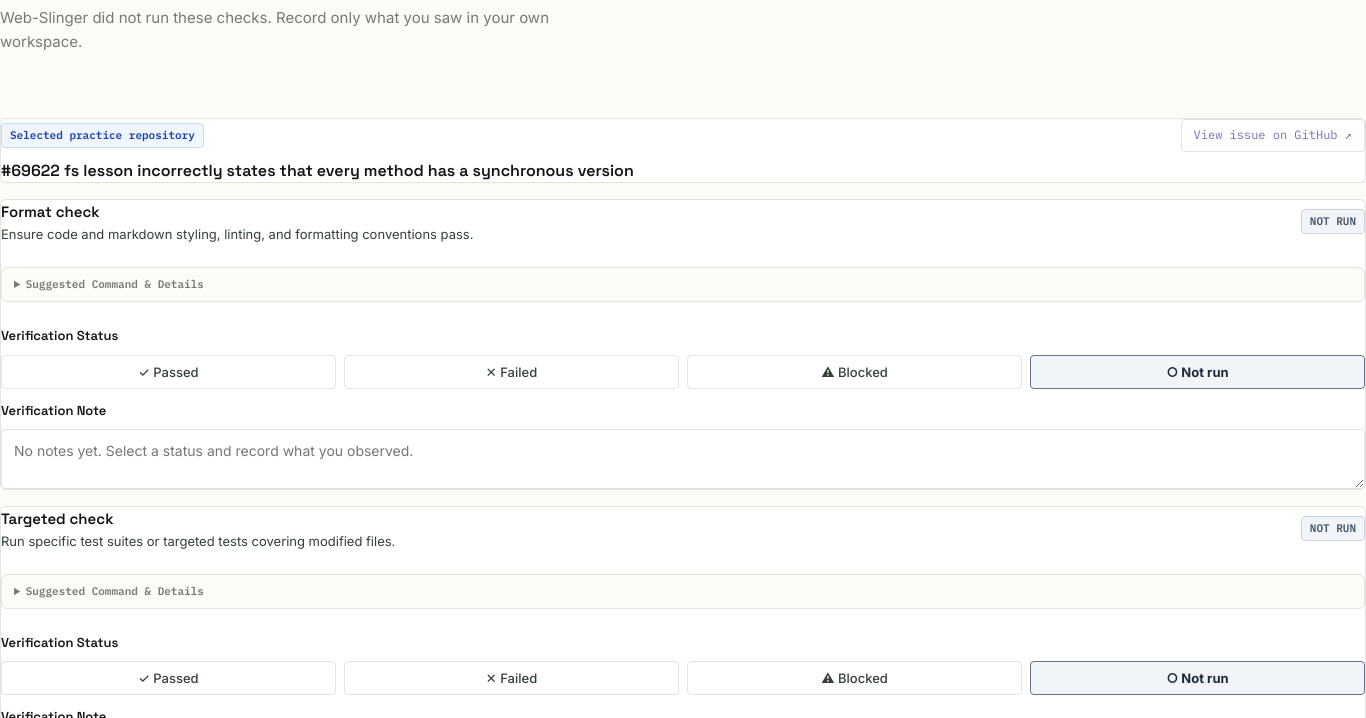
it: Simplified VerifyCanvas Component & Verification Flow › explains failed and blocked states plainly and keeps them visible
The image size is (1366, 718).
Note: Set targeted check to Failed
Click the button "✕ Failed" below "Targeted check".
click(512, 678)  # box top-left (344, 661), bottom-right (679, 695)
(page scrolled)
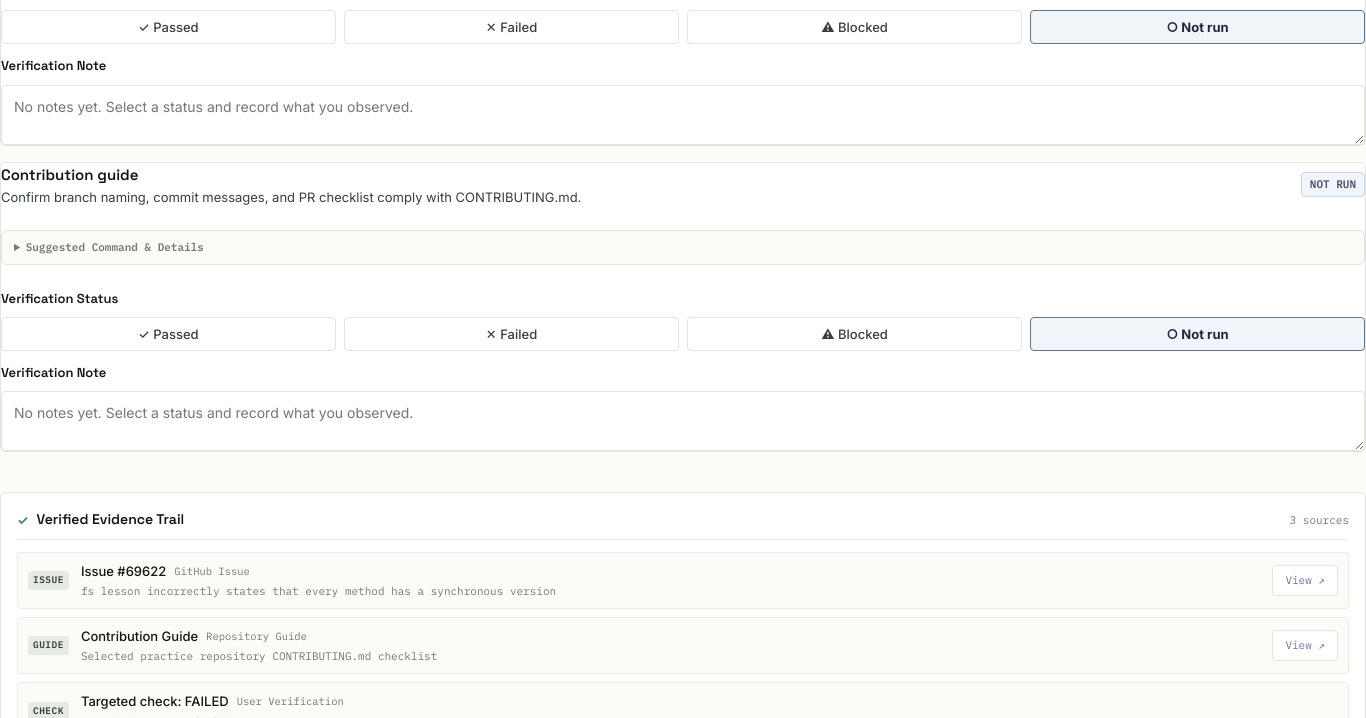
Note: Set contribution guide to Blocked
Click the 2nd button "⚠ Blocked".
click(854, 334)  # box top-left (687, 317), bottom-right (1022, 351)
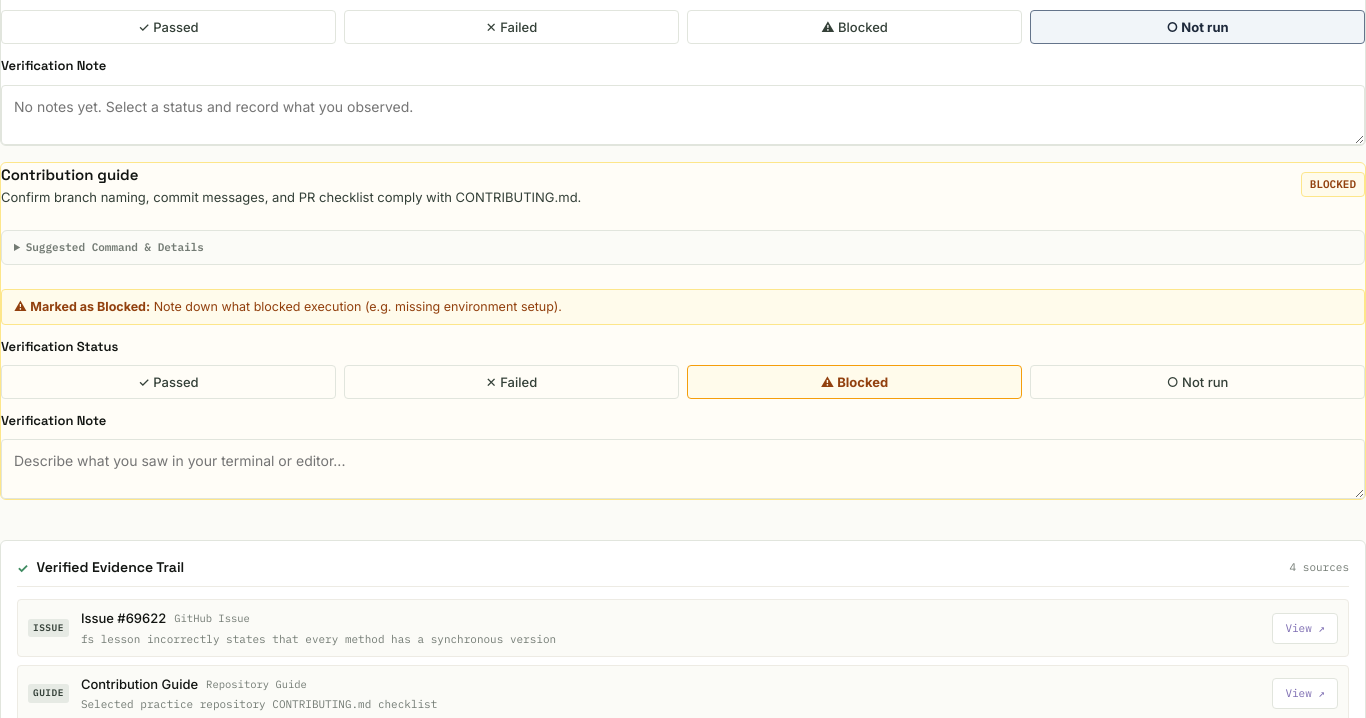
Check: the text "Marked as Blocked:" is shown, box top-left (30, 299), bottom-right (150, 314)
